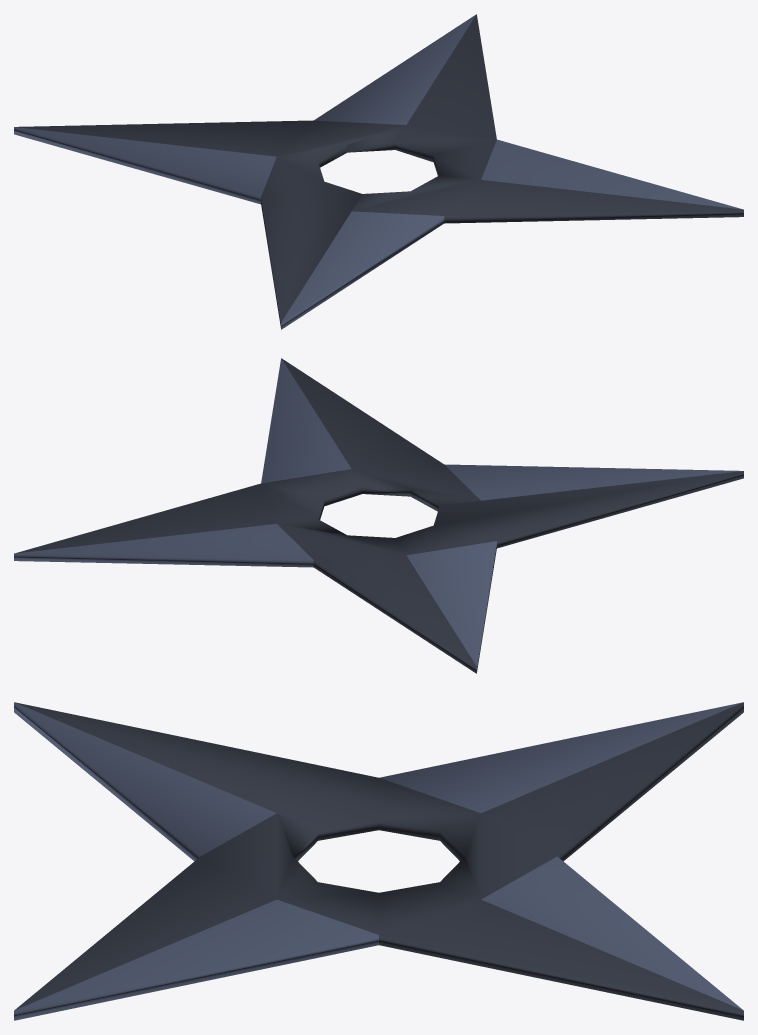
Rendered from ninja_star.fbx.
3 renders of one model, top to bottom at view 1: azimuth 30°, elevation 25°; view 2: azimuth 150°, elevation 25°; view 3: azimuth 270°, elevation 25°, orthographic. The views are drawn at different scales.
Parts seen in each view (by area): view 1: FlatSkin_NinjaMonkey_NinjaMonkey.001; view 2: FlatSkin_NinjaMonkey_NinjaMonkey.001; view 3: FlatSkin_NinjaMonkey_NinjaMonkey.001.
Boxes of the visible parts, left/top/right/bottom form: FlatSkin_NinjaMonkey_NinjaMonkey.001: left=14, top=14, right=743, bottom=329; FlatSkin_NinjaMonkey_NinjaMonkey.001: left=14, top=358, right=743, bottom=673; FlatSkin_NinjaMonkey_NinjaMonkey.001: left=14, top=702, right=743, bottom=1020.
Size of the model in its own units: 500 by 7.71 by 500.
Materials: 1 (1 with a texture image).
